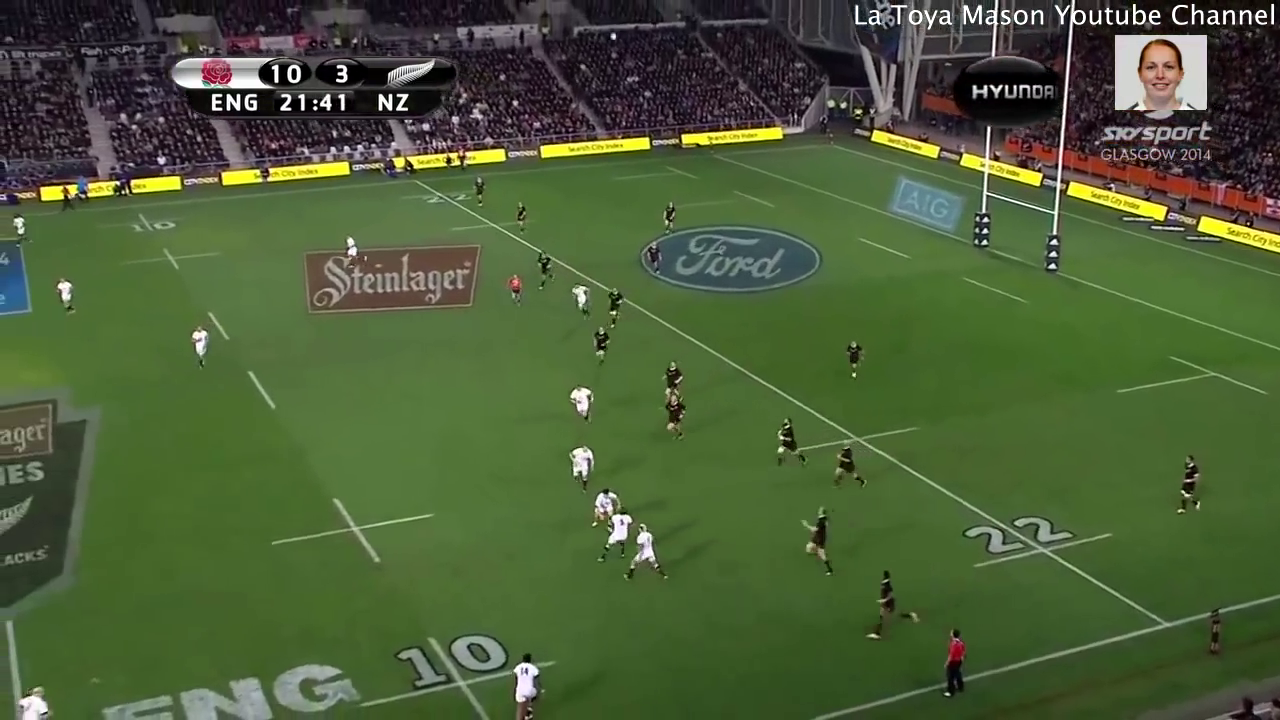10_metre: (352, 629, 564, 720), (258, 490, 448, 578), (115, 243, 230, 274), (95, 210, 196, 236)
player: (858, 563, 926, 651), (619, 518, 677, 589), (796, 504, 841, 586), (824, 436, 874, 496), (1171, 443, 1207, 522), (596, 506, 635, 572), (771, 415, 812, 471), (563, 439, 597, 501), (586, 484, 625, 536), (563, 379, 600, 428), (11, 682, 58, 720), (662, 387, 691, 446), (564, 280, 602, 325), (338, 233, 372, 278), (7, 209, 39, 253), (188, 323, 214, 377), (532, 243, 559, 295), (604, 281, 630, 334), (588, 319, 615, 370), (841, 334, 868, 382), (51, 273, 79, 318), (656, 357, 688, 396), (642, 236, 669, 277), (656, 195, 681, 238), (502, 271, 528, 312), (510, 196, 535, 238), (471, 174, 490, 209)
post: (962, 126, 1071, 282)
